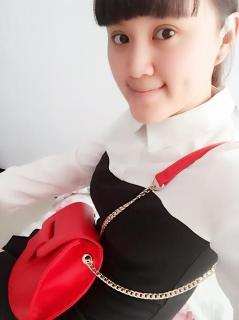long sleeve dress: (0, 83, 239, 319)
